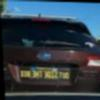License_Plate: (19, 65, 70, 81)
